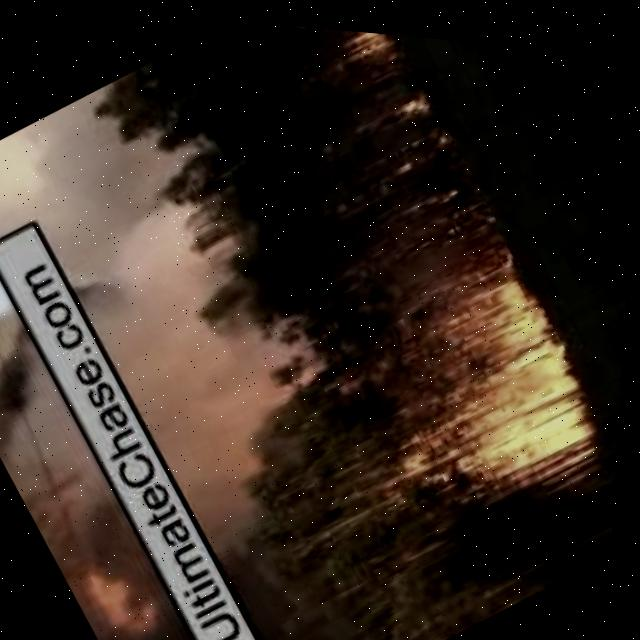Fire: (326, 235, 628, 543), (369, 78, 455, 164), (316, 22, 398, 74)
Smoke: (0, 56, 408, 612), (0, 293, 275, 640)
